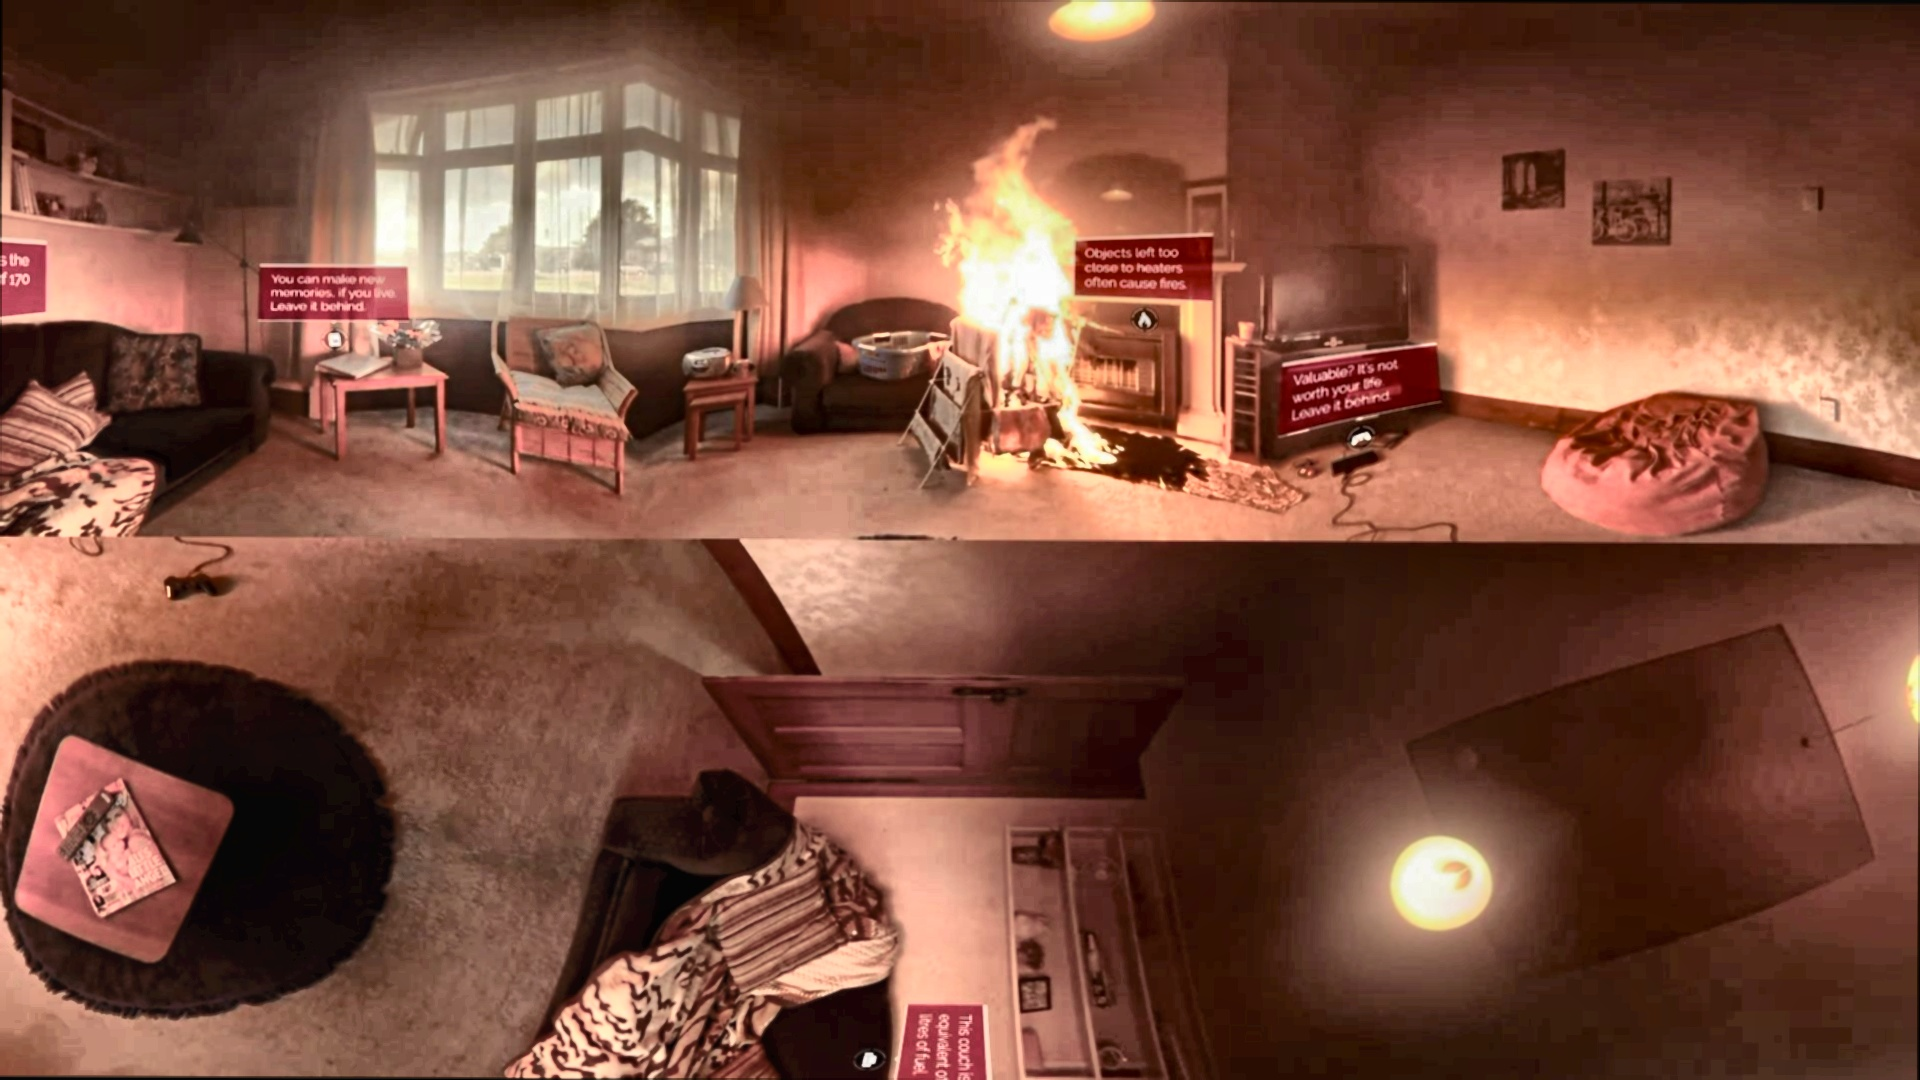fire: (936, 125, 1095, 380)
